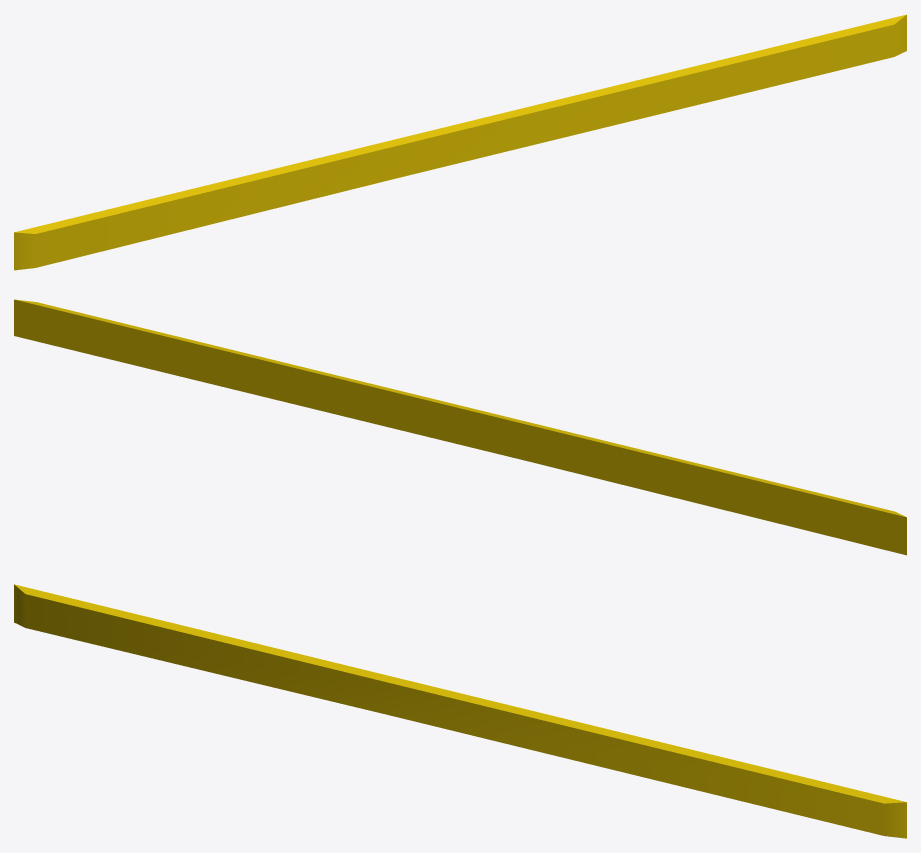
Rendered from EnfeiteLateral.fbx.
The picture shows the model from 3 angles, top to bottom: view 1: azimuth 30°, elevation 25°; view 2: azimuth 150°, elevation 25°; view 3: azimuth 330°, elevation 25°; orthographic projection.
Parts seen in each view (by area): view 1: EnfeiteLateral; view 2: EnfeiteLateral; view 3: EnfeiteLateral.
Boxes of the visible parts, x1=… form: EnfeiteLateral: x1=14, y1=14, x2=906, y2=270; EnfeiteLateral: x1=14, y1=299, x2=906, y2=555; EnfeiteLateral: x1=14, y1=584, x2=906, y2=838.
Size of the model in its own units: 297 by 12.1 by 2.91.
